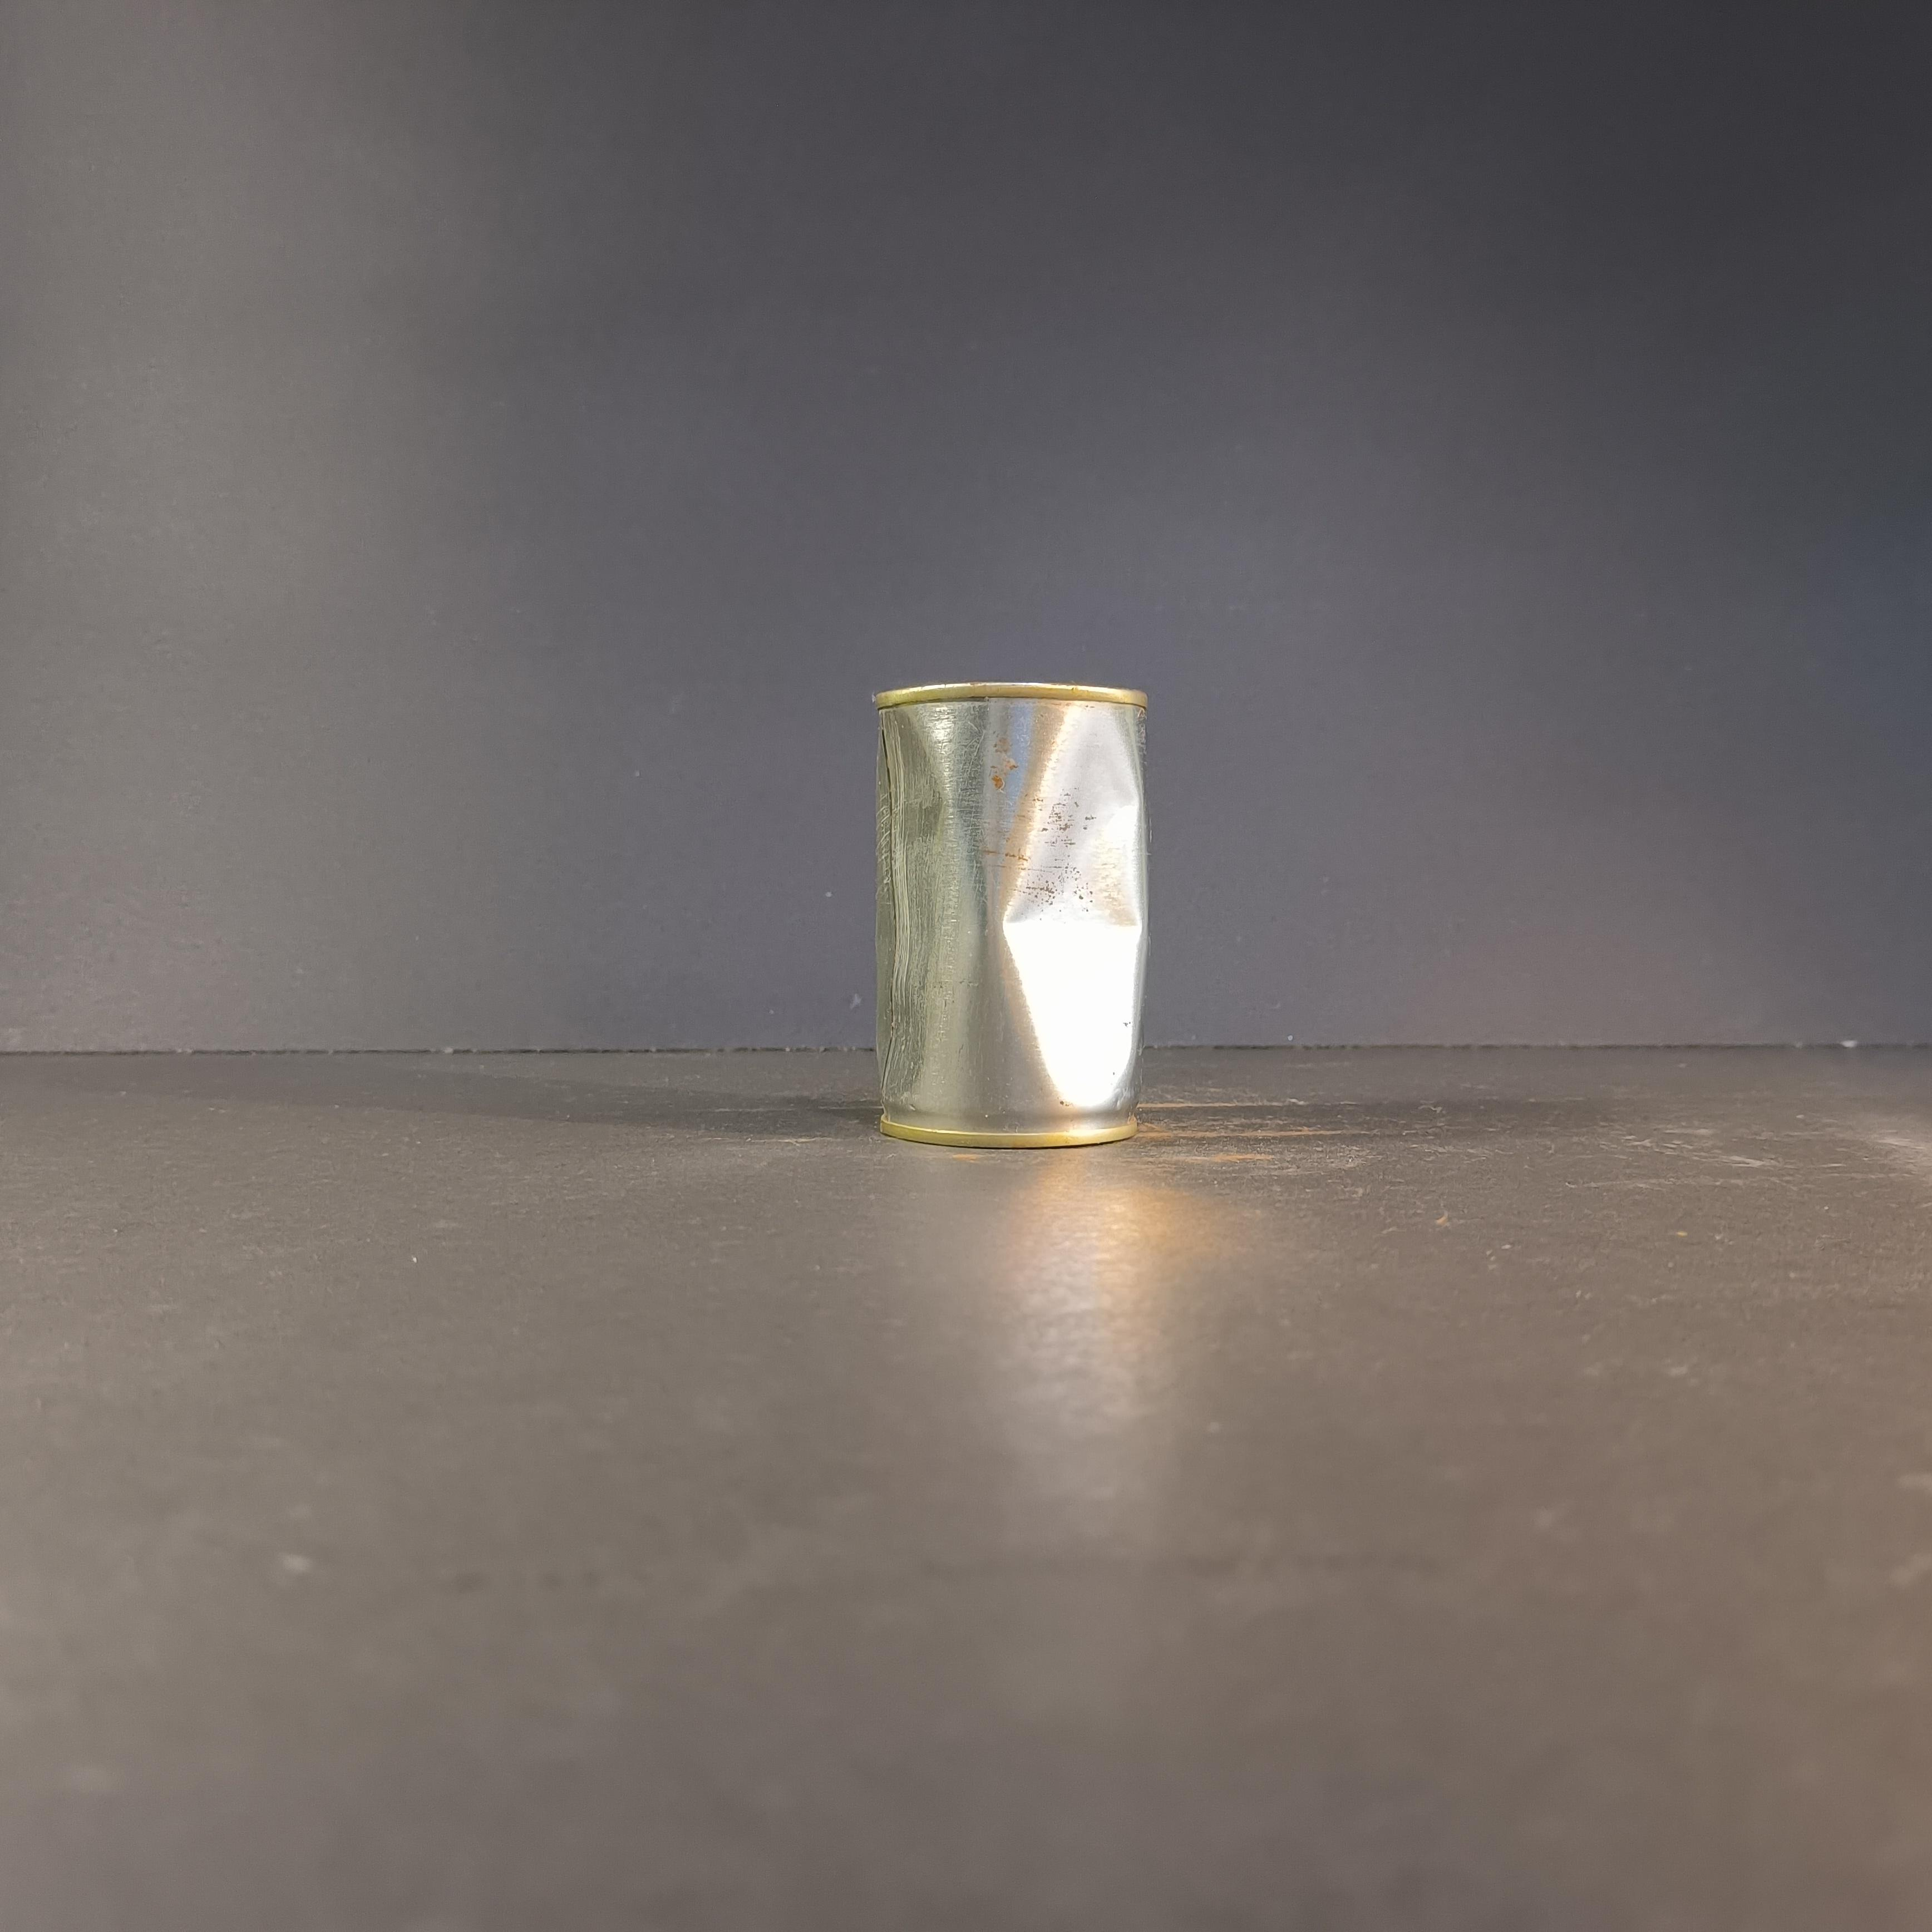Dented: (846, 655, 1162, 1155)
